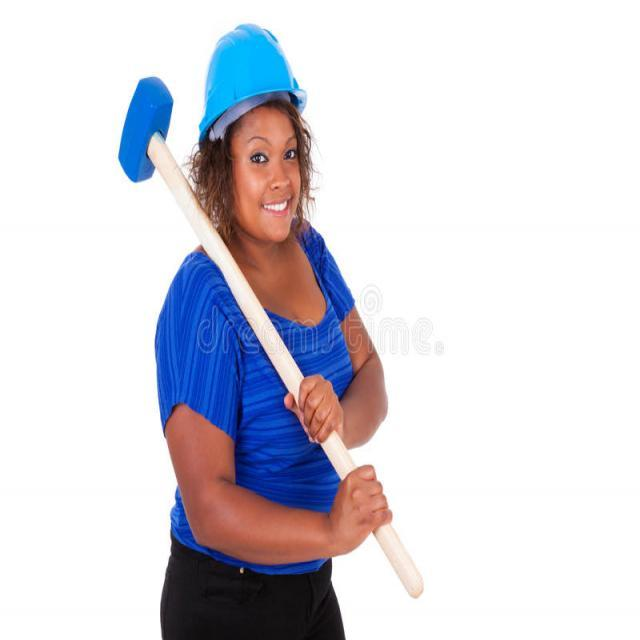hammer: (110, 62, 427, 600)
